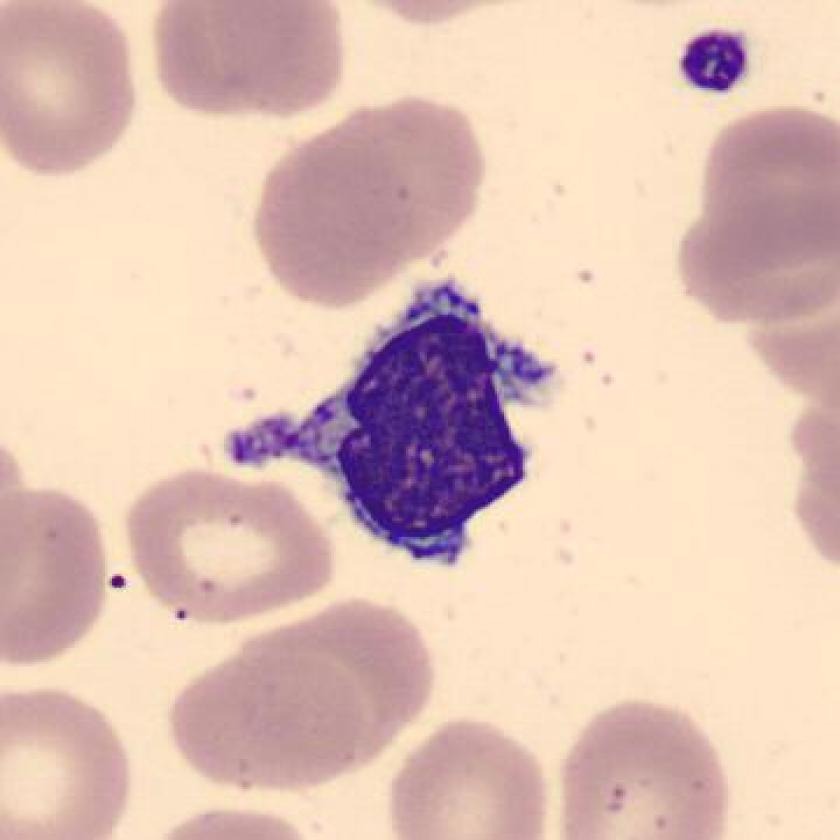lymphocyte: (204, 258, 575, 589)
platelets: (678, 24, 754, 100)
